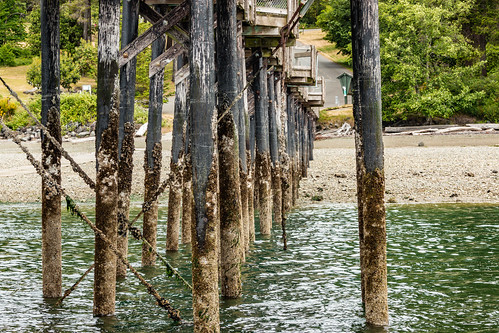beach: (314, 125, 499, 204), (1, 139, 174, 205)
collumn: (174, 3, 223, 333), (342, 1, 391, 329), (82, 1, 131, 329), (25, 1, 74, 329)
sea: (3, 204, 499, 332)
vegetation: (387, 1, 499, 114)
